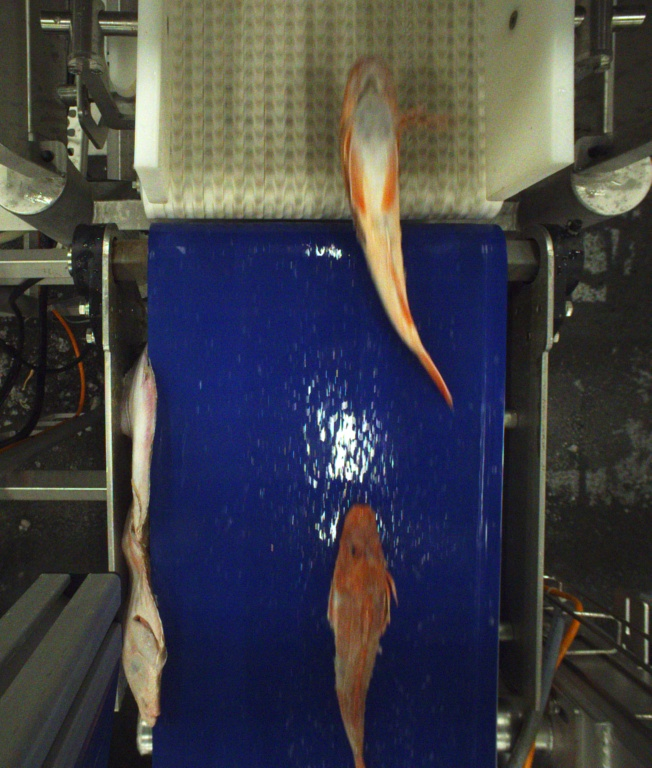GUU: (327, 504, 396, 768)
